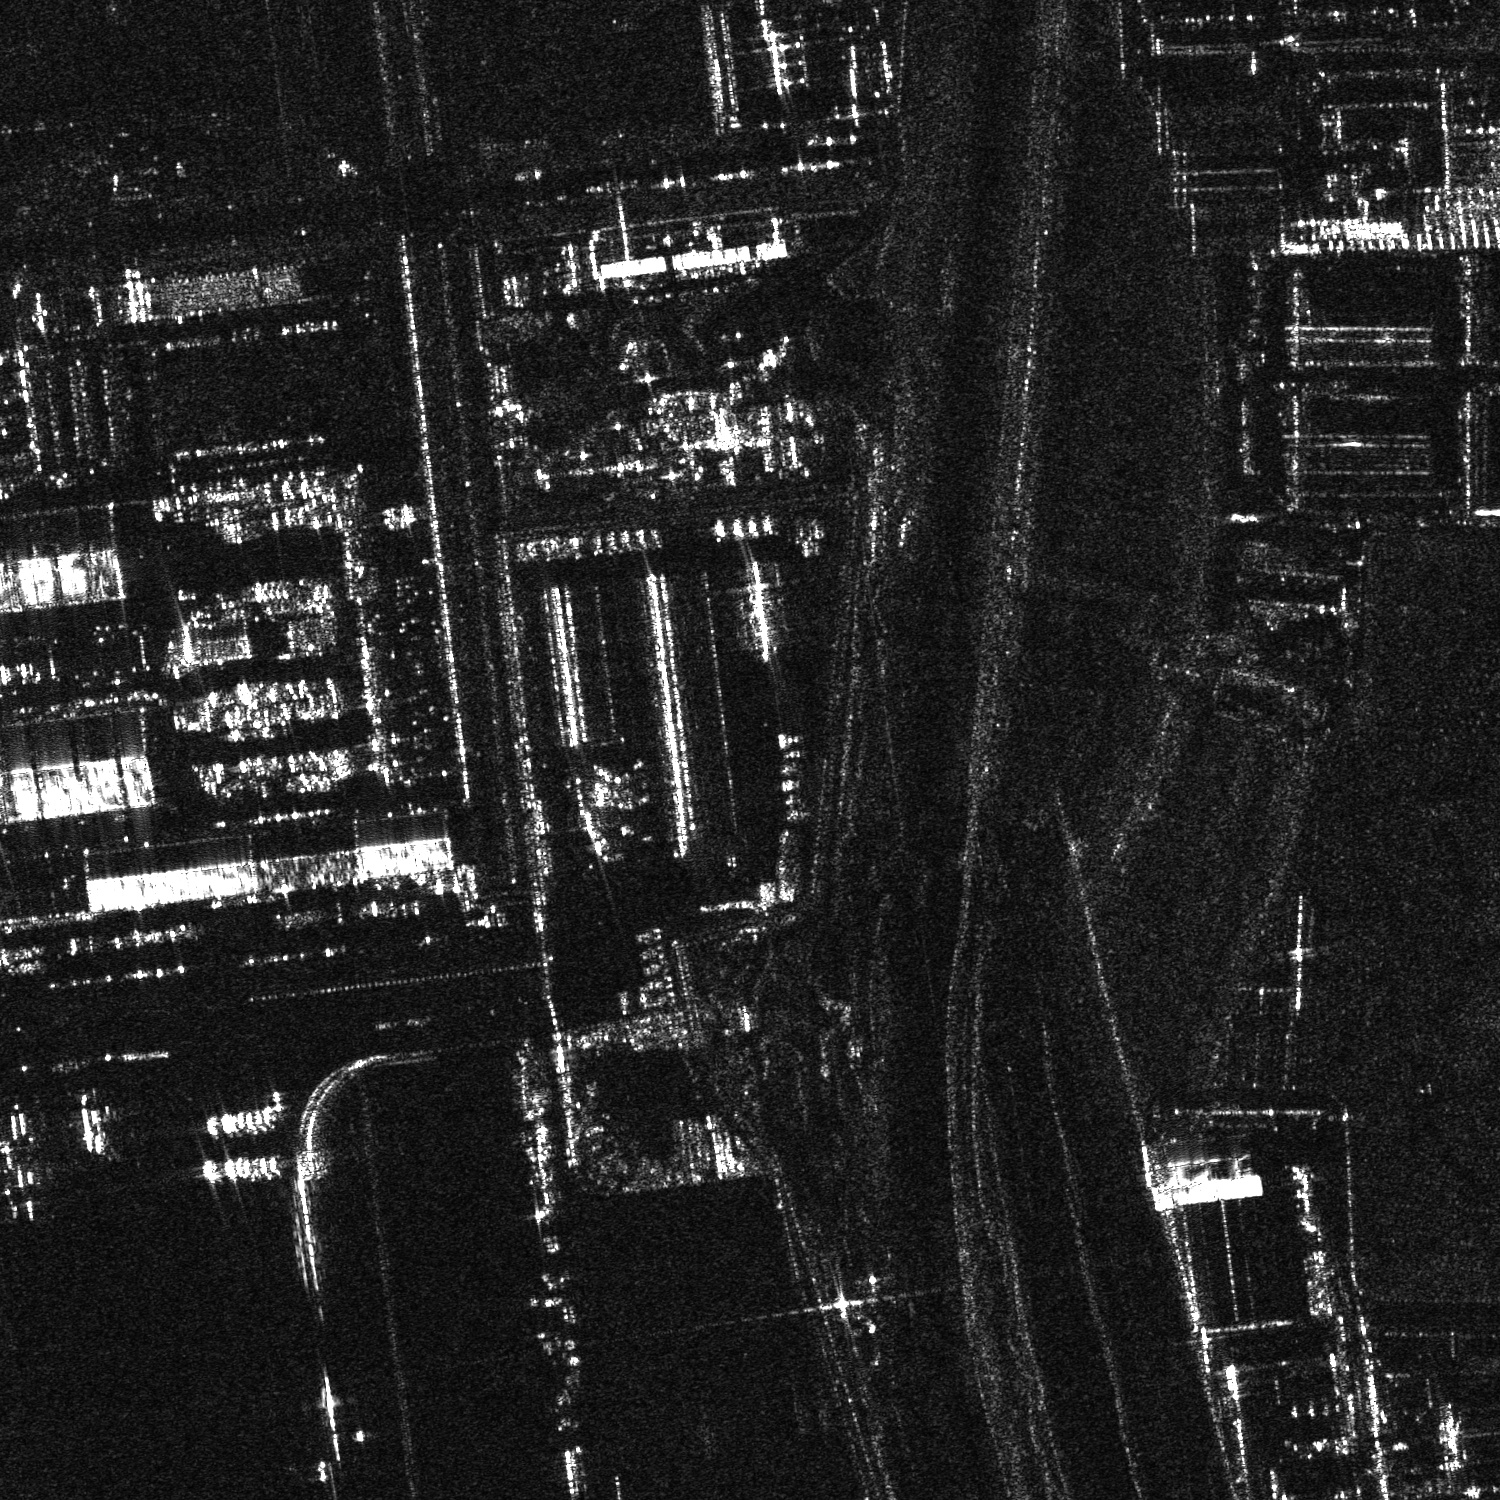Boeing787: (65, 1092, 124, 1155)
